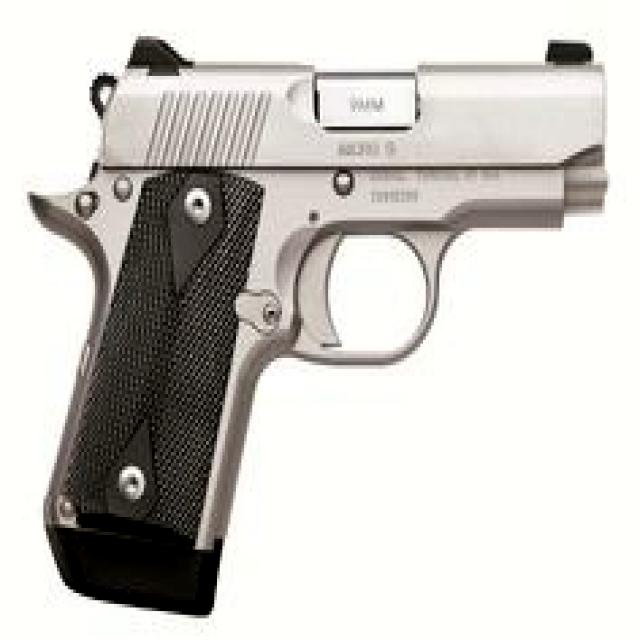semi automatic: (11, 5, 618, 623), (20, 15, 618, 640)
